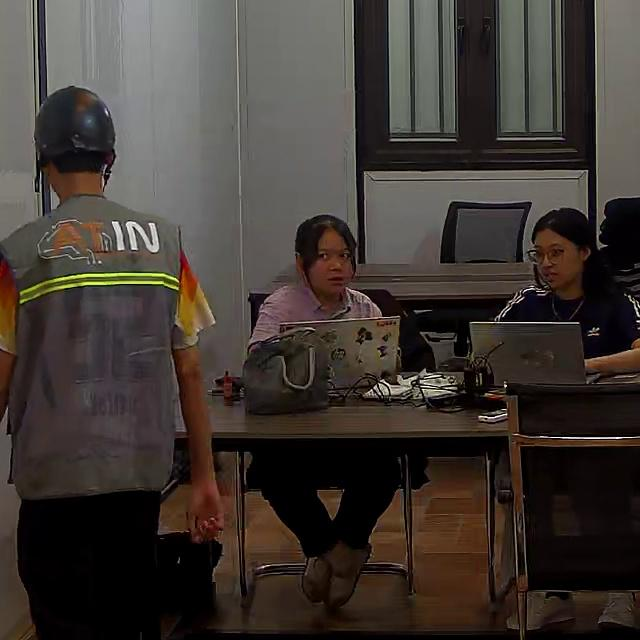helmet: (33, 84, 120, 163)
no_helmet: (293, 214, 358, 282), (531, 207, 597, 254)
none: (494, 282, 637, 358), (245, 281, 383, 357)
